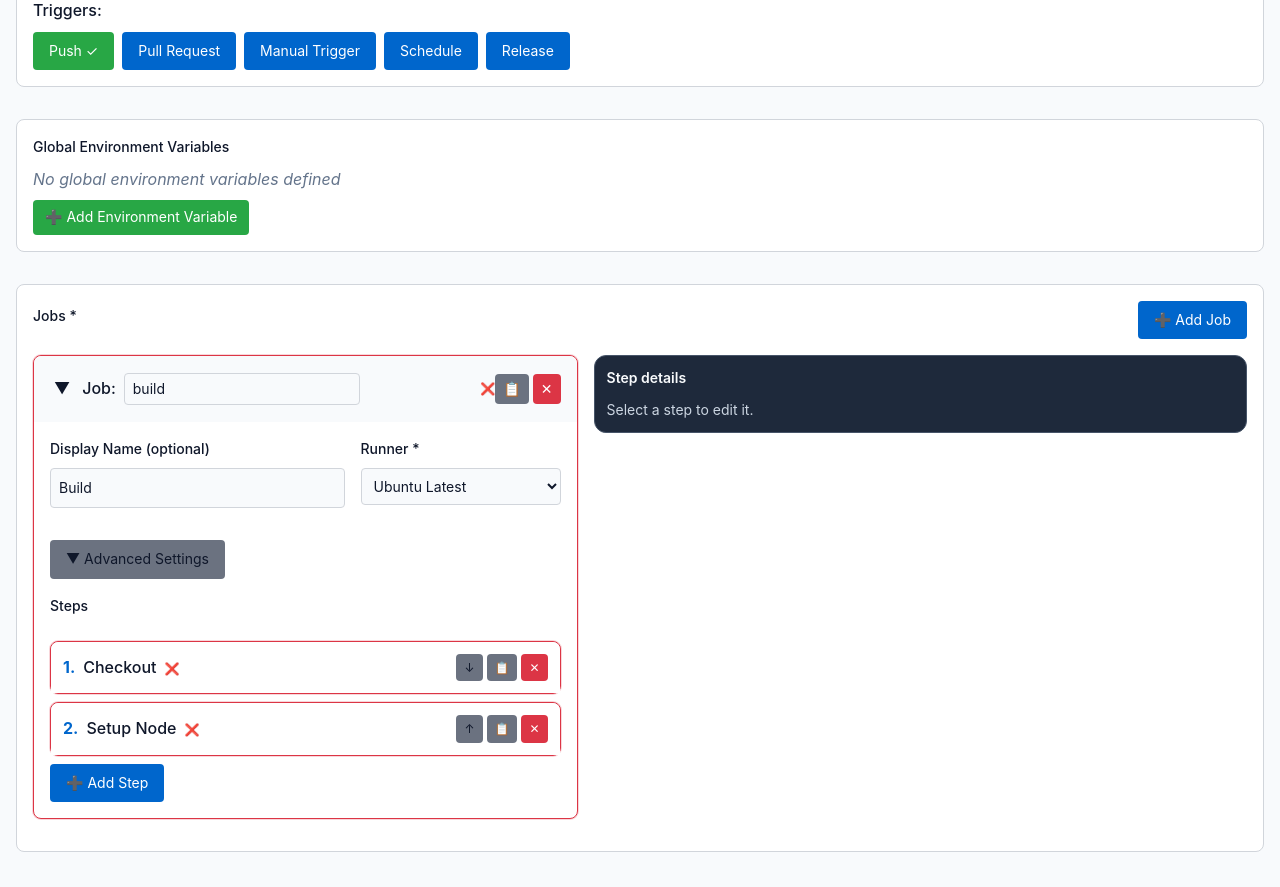
Test: GUIWorkflowEditor step detail panel › gives each duplicate of the same step a distinct id
(page scrolled)
Click the 2nd button titled "Duplicate step": [502, 668] box [486,654,518,682]
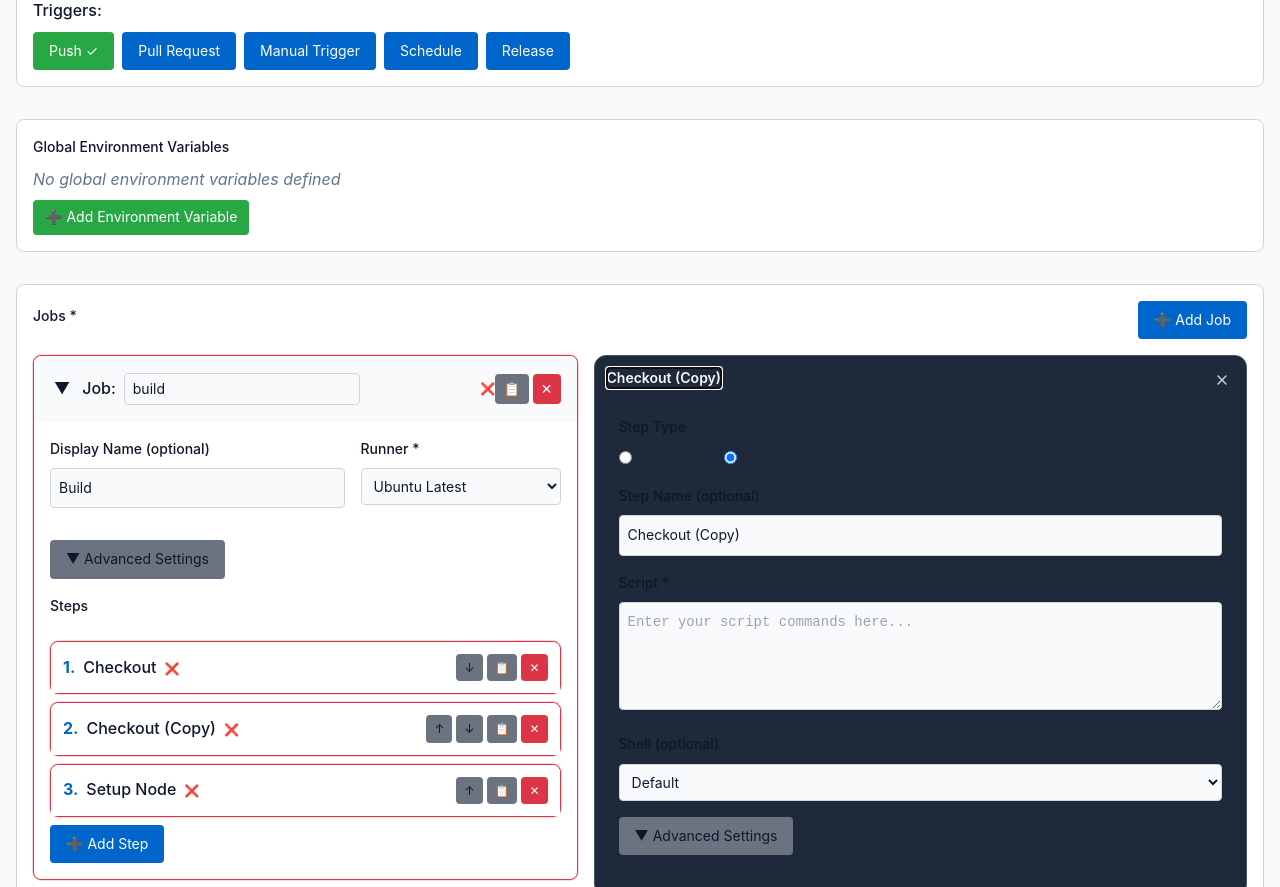
Click the 2nd button titled "Duplicate step": [502, 668] box [486,654,518,682]
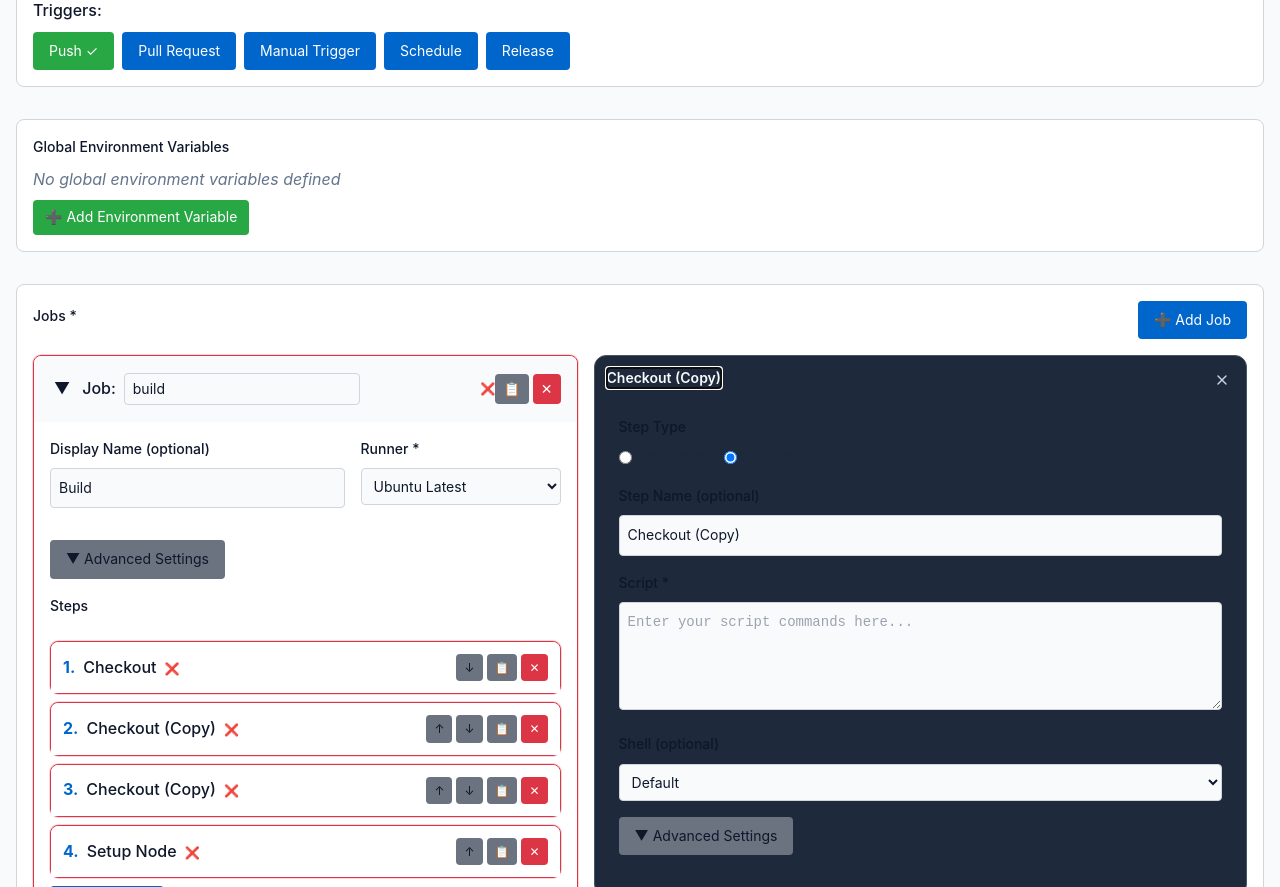
expect the number of fields labelled "Step Name (optional)" is 1: met, box [618,515,1222,556]
expect the number of buttons "2. Checkout (Copy)" is 2: met, box [63,716,216,742]; [63,777,216,803]
